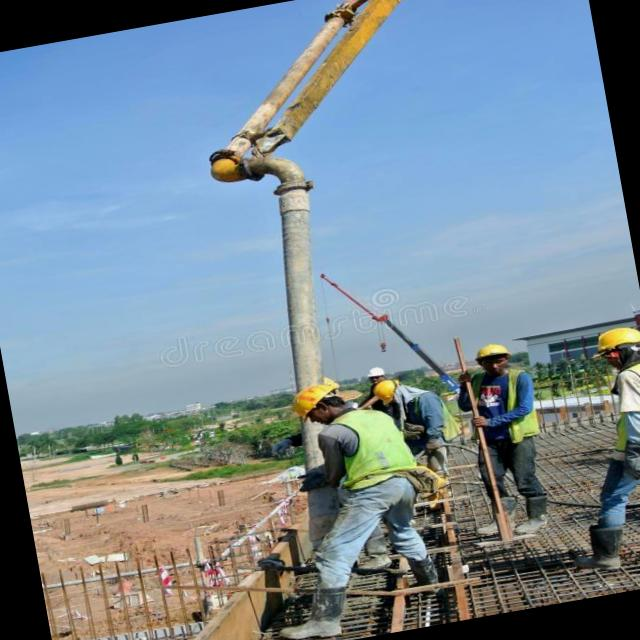helmet: (586, 323, 640, 352), (476, 340, 514, 360)
vest: (321, 399, 435, 499)
